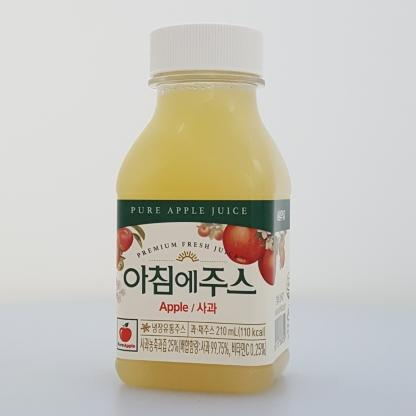-----------210ML: (115, 23, 291, 393)
